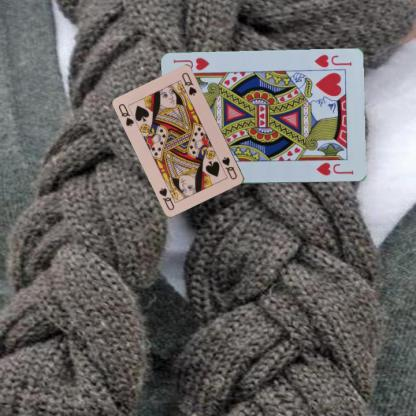Jh: (312, 52, 352, 69)
Qs: (116, 101, 135, 128), (220, 154, 238, 181)
